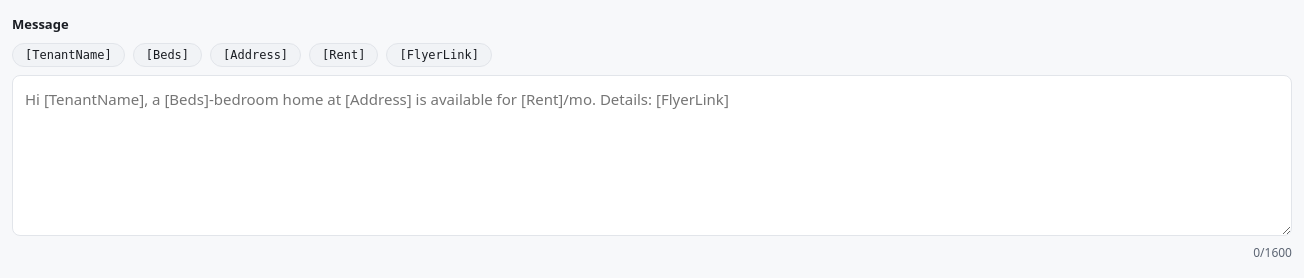
Test: MessageEditor — template + count › renders a labeled textarea with a live char count under the 1600 cap
The image size is (1304, 278).
Check: the text "0/1600" is shown, box x1=1253 y1=244 x2=1292 y2=262
Type "Hello" into the text box labelled "Message" at (652, 155), box x1=12 y1=74 x2=1292 y2=236
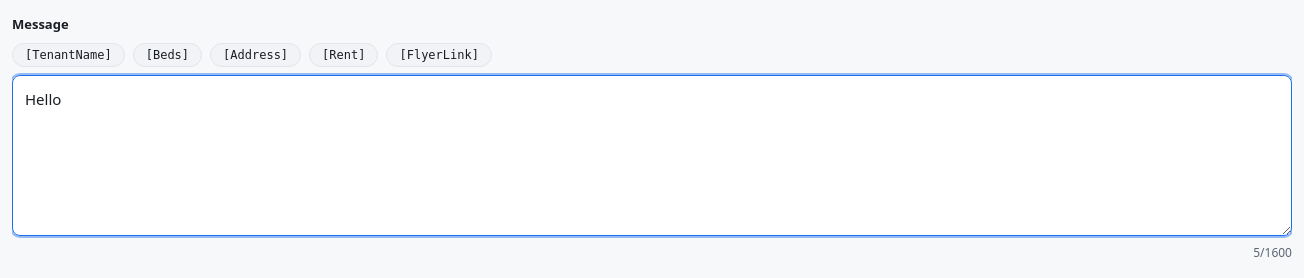
Check: the text "5/1600" is shown, box x1=1253 y1=244 x2=1292 y2=262
